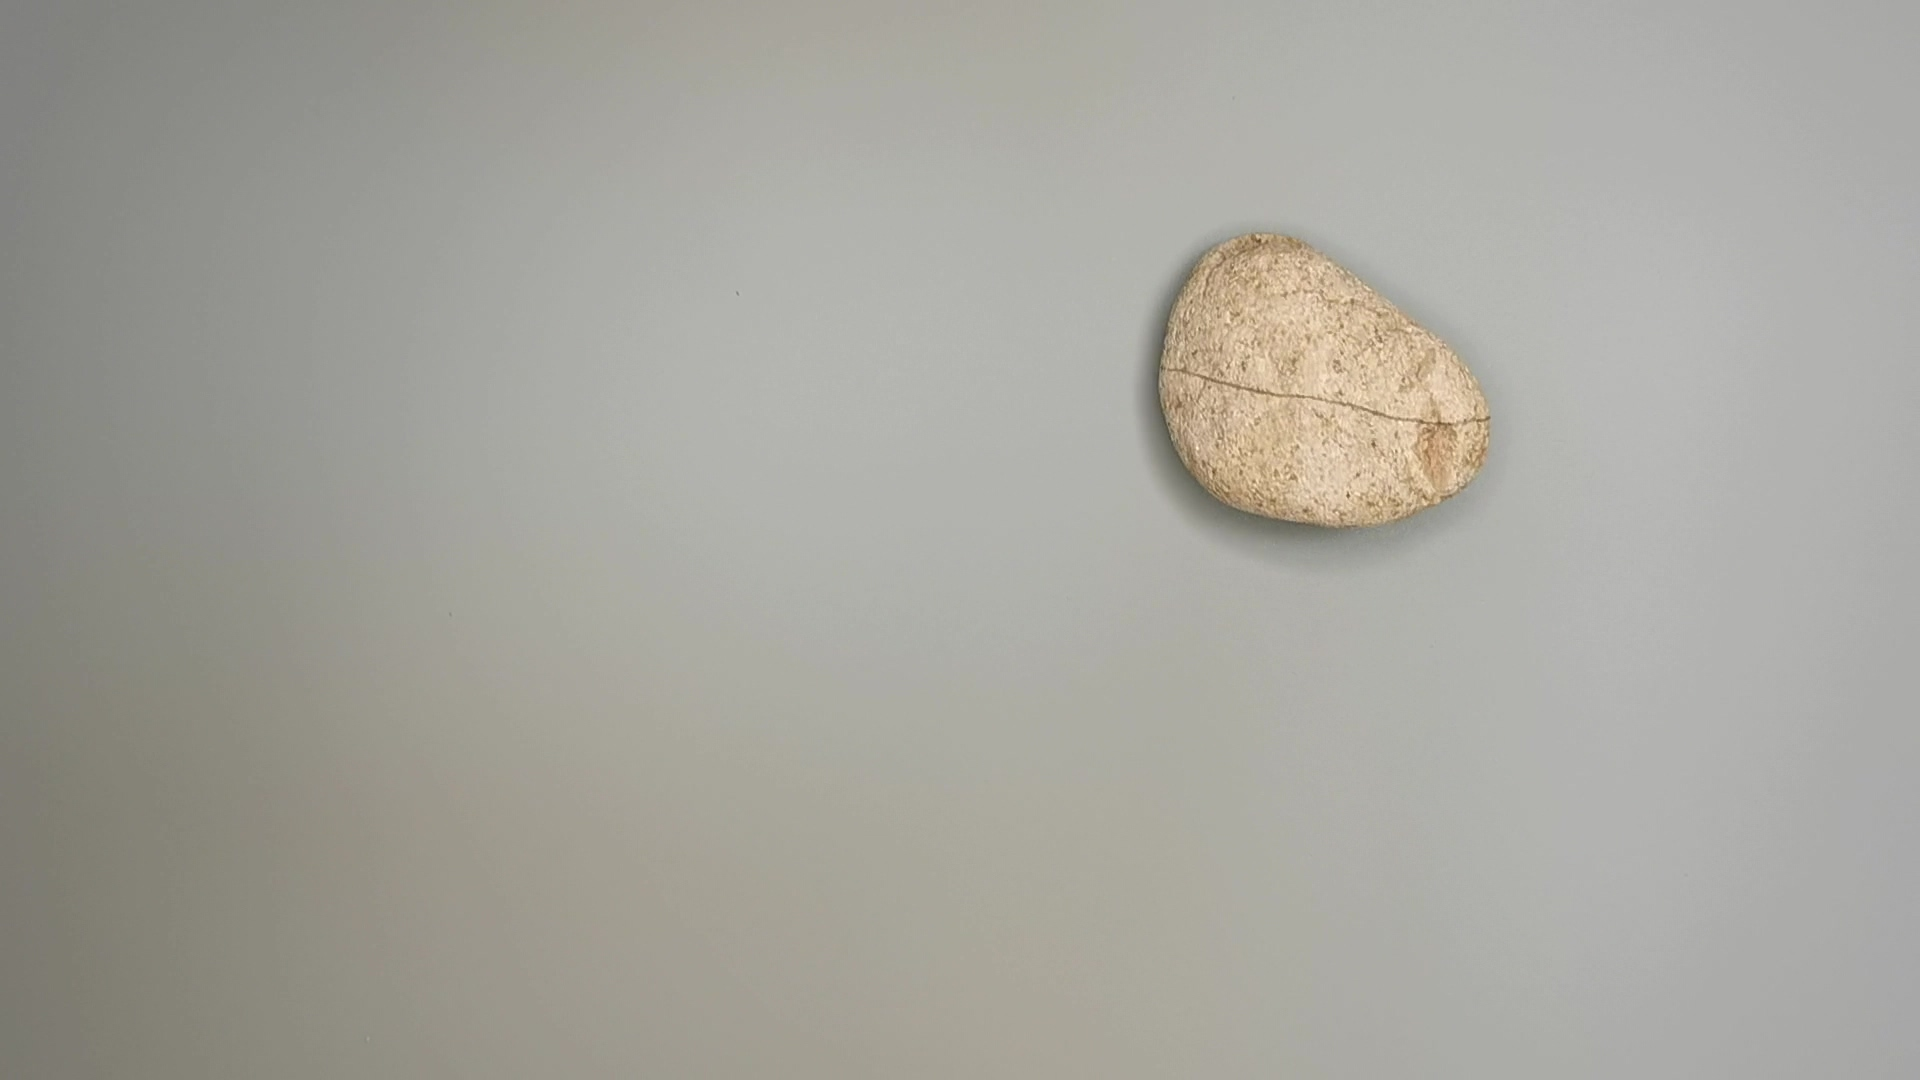ceramic: (1151, 227, 1505, 534)
